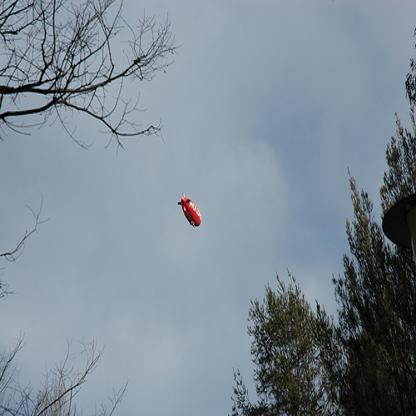Airship: (172, 192, 212, 235)
